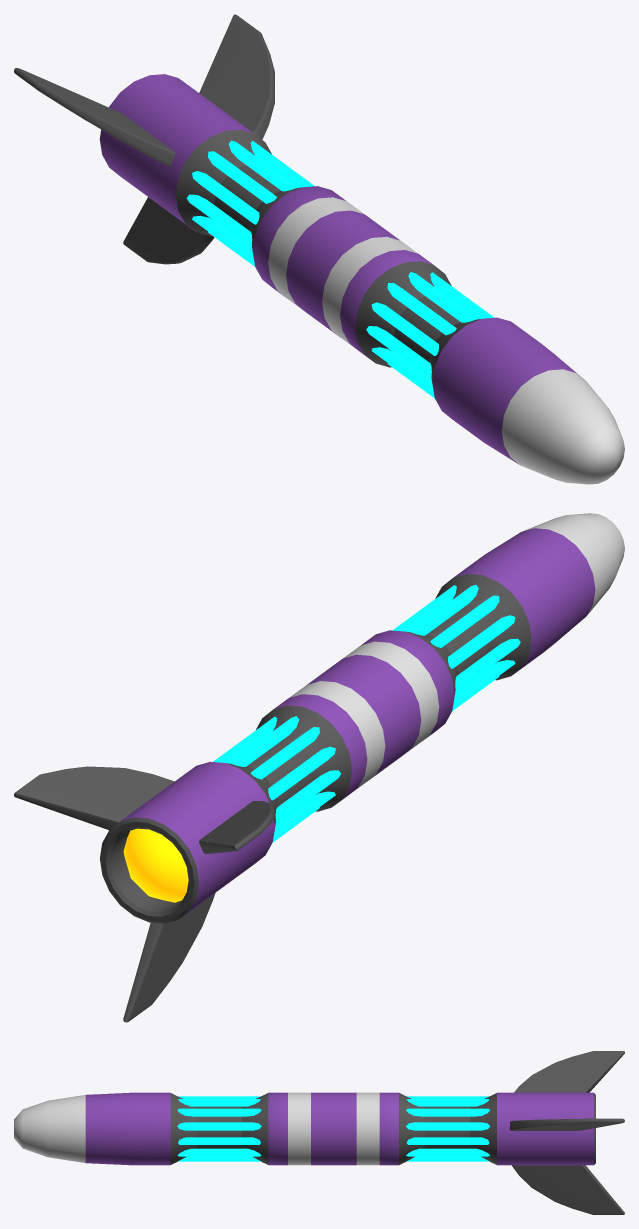
File: SM_PlayerWeapon_Missile.fbx
3 views of the same model, one above another, from view 1: azimuth 30°, elevation 25°; view 2: azimuth 150°, elevation 25°; view 3: azimuth 270°, elevation 25° (orthographic). The views are drawn at different scales.
Parts seen in each view (by area): view 1: PlayerWeapon_Missile; view 2: PlayerWeapon_Missile; view 3: PlayerWeapon_Missile.
Boxes of the visible parts, x1,y1,x2,y2 form: PlayerWeapon_Missile: (14, 14, 624, 484); PlayerWeapon_Missile: (14, 513, 624, 1022); PlayerWeapon_Missile: (14, 1051, 624, 1214).
Bounding box in the file's own units: 1.67 × 1.45 × 6.2.
